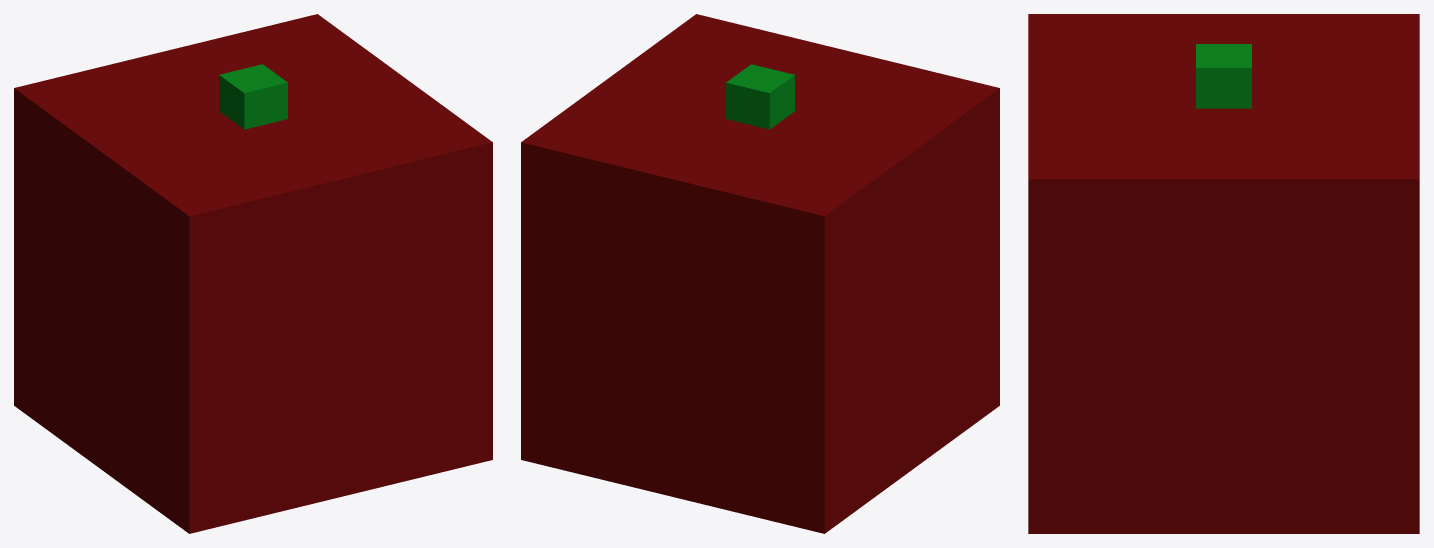
Rendered from APPle.dae.
3 views of the same model, side by side, from view 1: azimuth 30°, elevation 25°; view 2: azimuth 150°, elevation 25°; view 3: azimuth 270°, elevation 25° (orthographic). The views are drawn at different scales.
Parts seen in each view (by area): view 1: pCube1, pCube2; view 2: pCube1, pCube2; view 3: pCube1, pCube2.
Part boxes in pixels (x1=…): pCube1: x1=14, y1=14, x2=492, y2=533; pCube2: x1=219, y1=64, x2=287, y2=129; pCube1: x1=521, y1=14, x2=999, y2=533; pCube2: x1=726, y1=64, x2=794, y2=129; pCube1: x1=1028, y1=14, x2=1419, y2=533; pCube2: x1=1196, y1=44, x2=1251, y2=108.
Size of the model in its own units: 0.0696 by 0.0776 by 0.0696.
